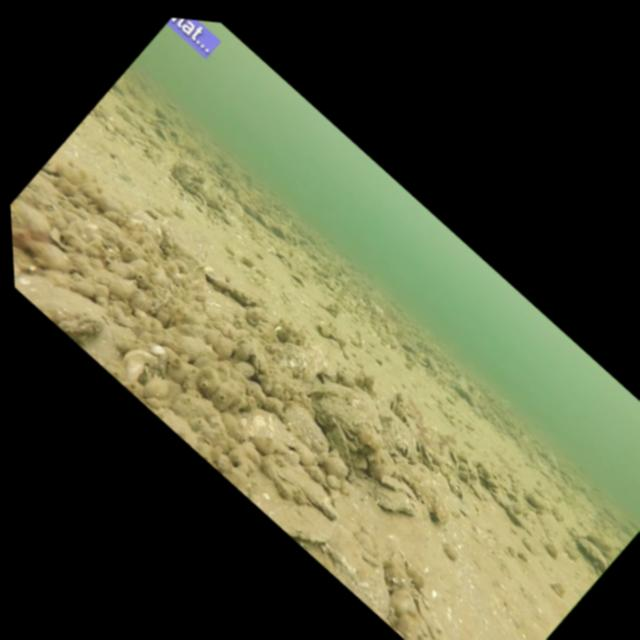Oyster-Closed: (525, 437, 566, 478)
Oyster-Indeterminate: (240, 462, 347, 567), (384, 437, 480, 534), (221, 391, 315, 487), (33, 276, 124, 367), (307, 416, 383, 492), (268, 394, 342, 469), (251, 322, 320, 393), (360, 397, 428, 467), (147, 209, 214, 278), (20, 222, 82, 285), (192, 275, 253, 338), (282, 329, 341, 392), (112, 336, 169, 396), (364, 471, 420, 529), (117, 197, 171, 251), (564, 529, 614, 579), (10, 193, 57, 245), (163, 152, 211, 202), (217, 271, 266, 319), (382, 579, 425, 624), (370, 552, 412, 597), (191, 254, 233, 297), (515, 482, 557, 524), (18, 178, 58, 219), (581, 521, 621, 562), (444, 373, 485, 413), (435, 468, 474, 507), (43, 222, 81, 260), (386, 605, 427, 640), (433, 535, 468, 574), (148, 119, 185, 155), (481, 482, 517, 518), (407, 607, 443, 640), (146, 99, 180, 132), (201, 175, 233, 208), (371, 323, 403, 355), (363, 297, 395, 329), (461, 471, 492, 502), (502, 489, 531, 520), (418, 349, 447, 379), (440, 444, 470, 473), (470, 458, 499, 486), (264, 219, 292, 248), (459, 456, 487, 484), (251, 234, 278, 262), (538, 537, 565, 565), (405, 568, 431, 596), (267, 236, 292, 263), (279, 253, 305, 278), (546, 578, 571, 604), (39, 155, 63, 182), (397, 336, 422, 360), (452, 458, 475, 482), (402, 628, 446, 640), (198, 187, 220, 209), (239, 198, 260, 219), (251, 210, 272, 231), (162, 98, 182, 119), (416, 627, 447, 640), (238, 169, 258, 189), (263, 241, 279, 258)
Oyster-Open: (300, 363, 389, 454), (206, 198, 238, 229), (192, 190, 210, 208)
